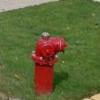Hydrant: (23, 23, 79, 100)
